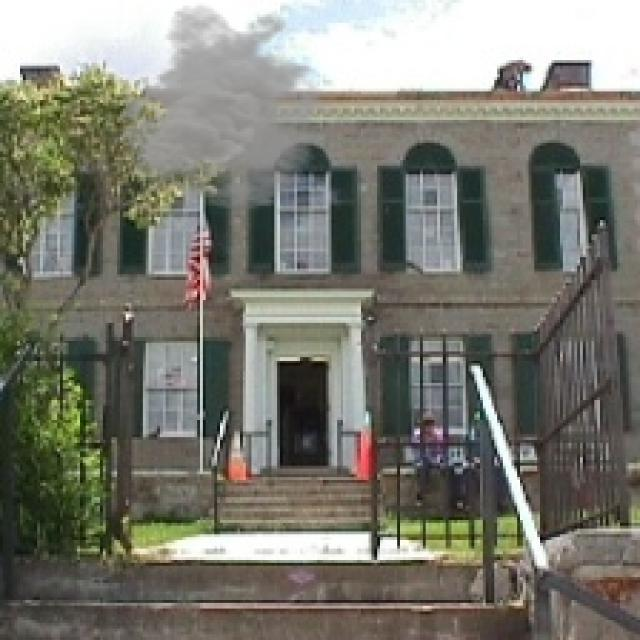Smoke: (109, 2, 348, 212)
